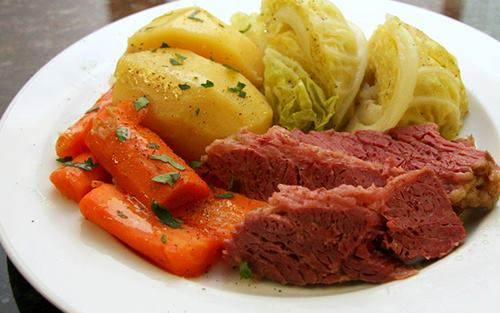boiled potatoes: (119, 55, 265, 140), (137, 7, 257, 68)
chopped lettuce: (368, 19, 468, 130), (265, 2, 354, 122)
